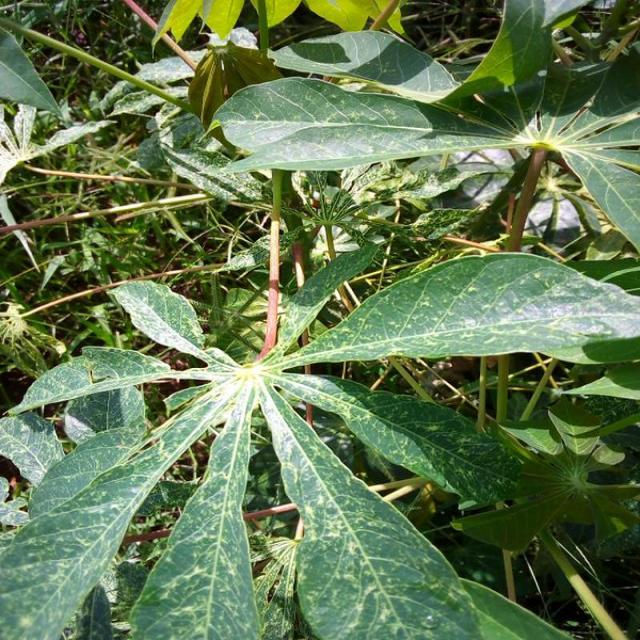cassava leaf: (0, 1, 638, 638), (280, 250, 639, 368)
